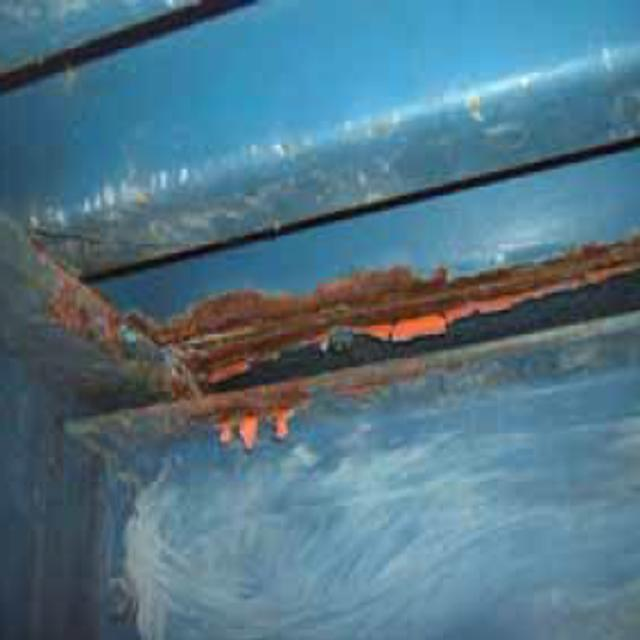corrosion: (30, 233, 631, 456)
